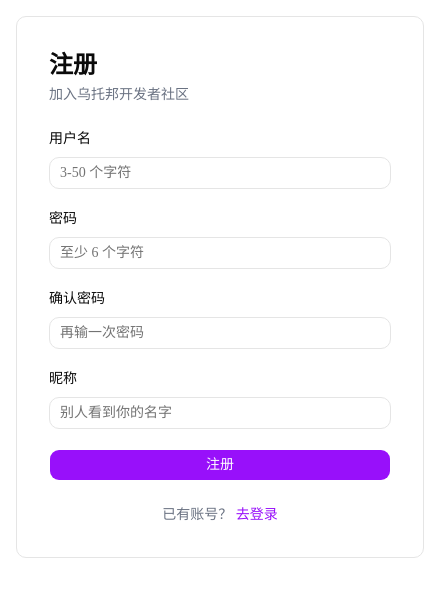
注册页面 › 注册失败时，行内显示错误信息
Type "xiaoming" into the field with placeholder "3-50 个字符" at (220,173), box left=49, top=157, right=391, bottom=189
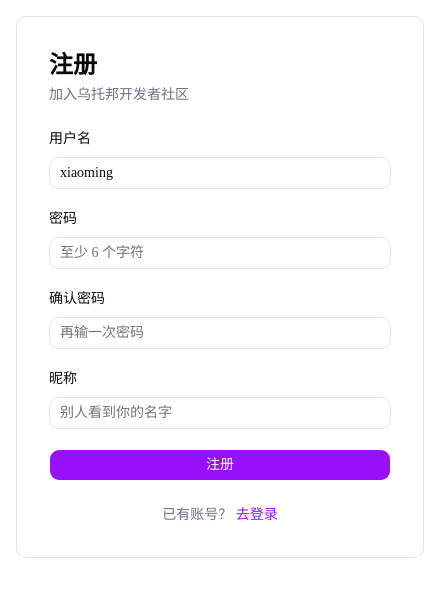
Type "123456" into the password field with placeholder "至少 6 个字符" at (220,253), box left=49, top=237, right=391, bottom=269
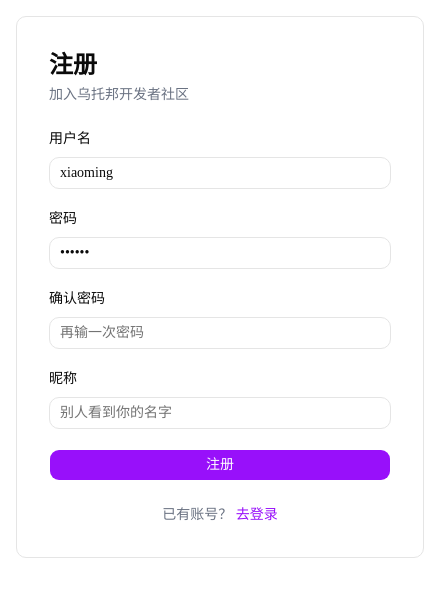
Type "123456" into the password field with placeholder "再输一次密码" at (220,333), box left=49, top=317, right=391, bottom=349
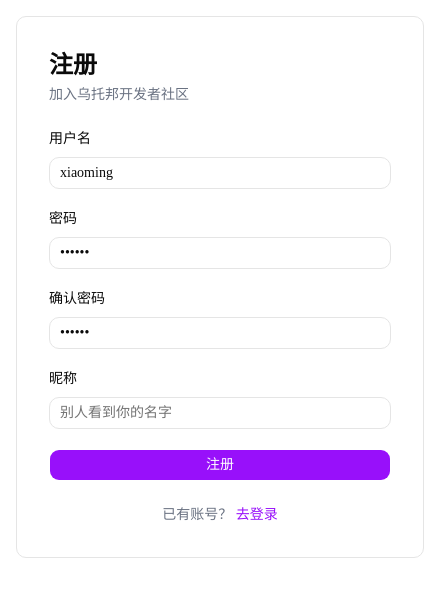
Type "小明" into the field with placeholder "别人看到你的名字" at (220,413), box left=49, top=397, right=391, bottom=429
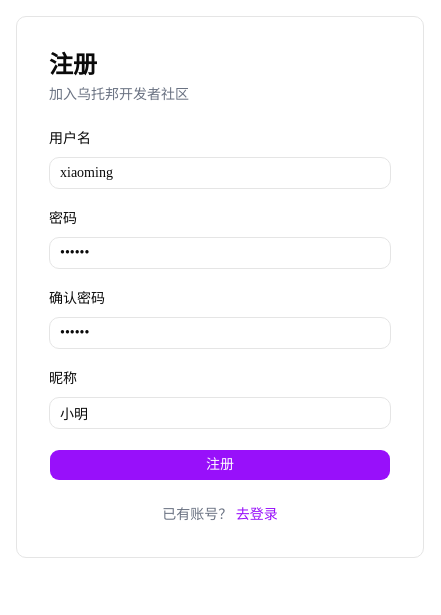
Click the button "注册" at (220,465), box left=49, top=449, right=391, bottom=481
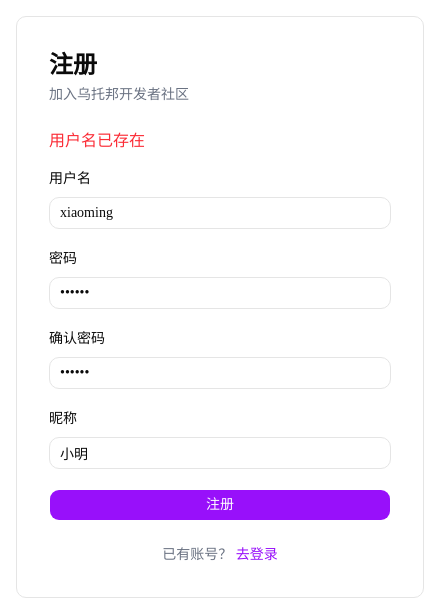
Expected: the text "用户名已存在" is shown, left=49, top=132, right=145, bottom=149
